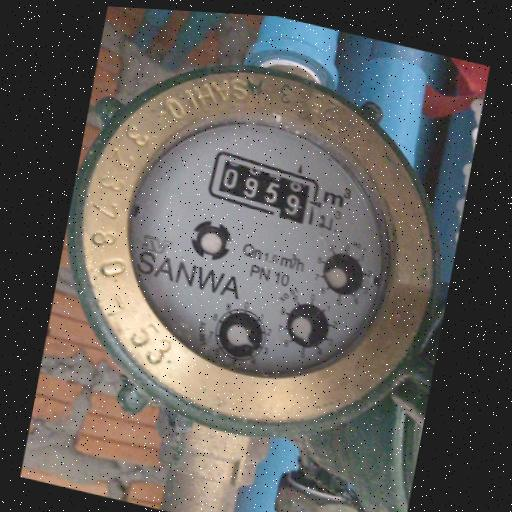0: (217, 158, 242, 195)
5: (258, 171, 284, 208)
9: (277, 177, 309, 223), (237, 166, 263, 202)
border_water_meter_number: (203, 148, 323, 228)
